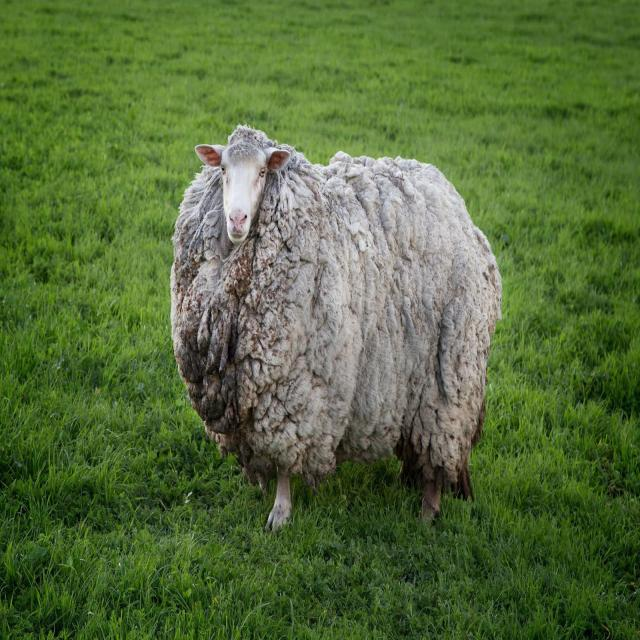Boar: (169, 122, 503, 535)
